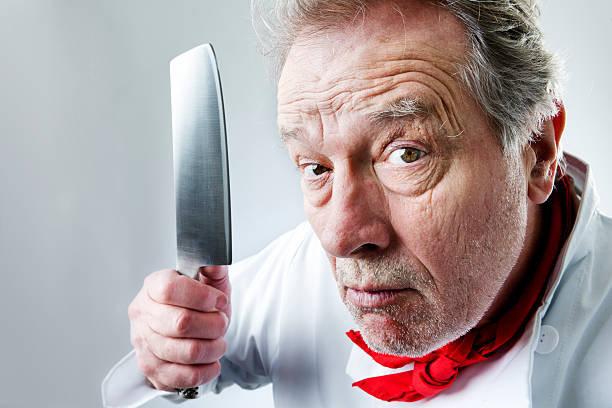knife: (168, 41, 234, 399)
